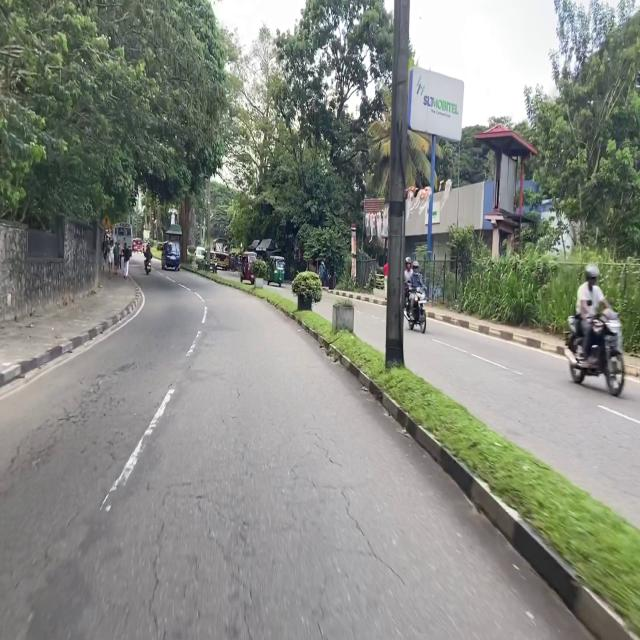bus: (113, 223, 132, 250), (213, 238, 229, 270)
car: (204, 251, 217, 273)
motorcycle: (565, 308, 624, 396), (406, 287, 426, 333), (144, 258, 151, 275)
person: (576, 264, 608, 362), (404, 258, 413, 297), (410, 261, 422, 290), (122, 241, 131, 278), (106, 238, 113, 279), (113, 242, 119, 274), (143, 241, 152, 260), (384, 262, 388, 299)
three wheeler: (240, 251, 256, 283), (267, 257, 284, 285)
van: (161, 241, 180, 270), (195, 247, 205, 261)
